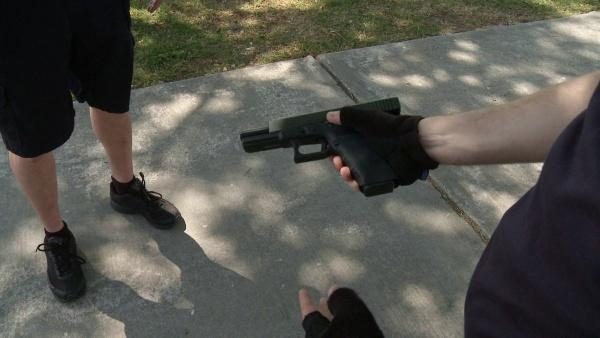Gun: (241, 96, 402, 198)
